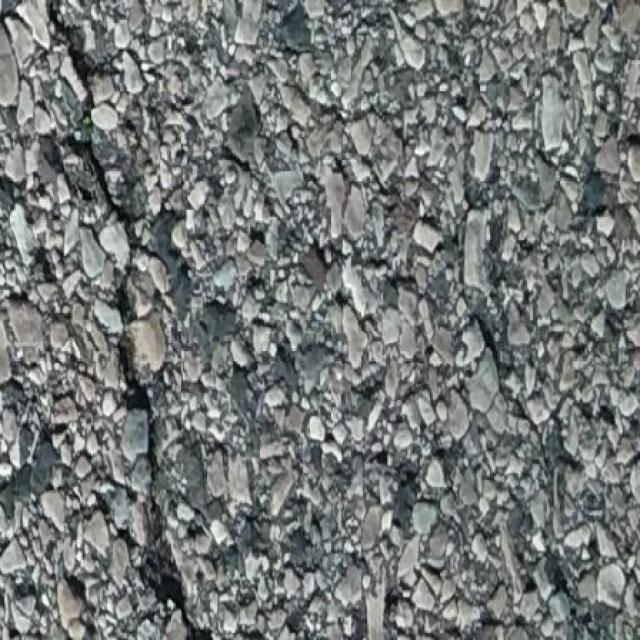Vertical Crack: (43, 0, 212, 640)
